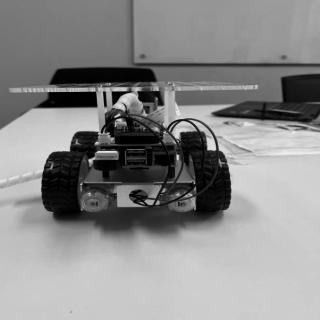vehicle: (12, 83, 256, 223)
